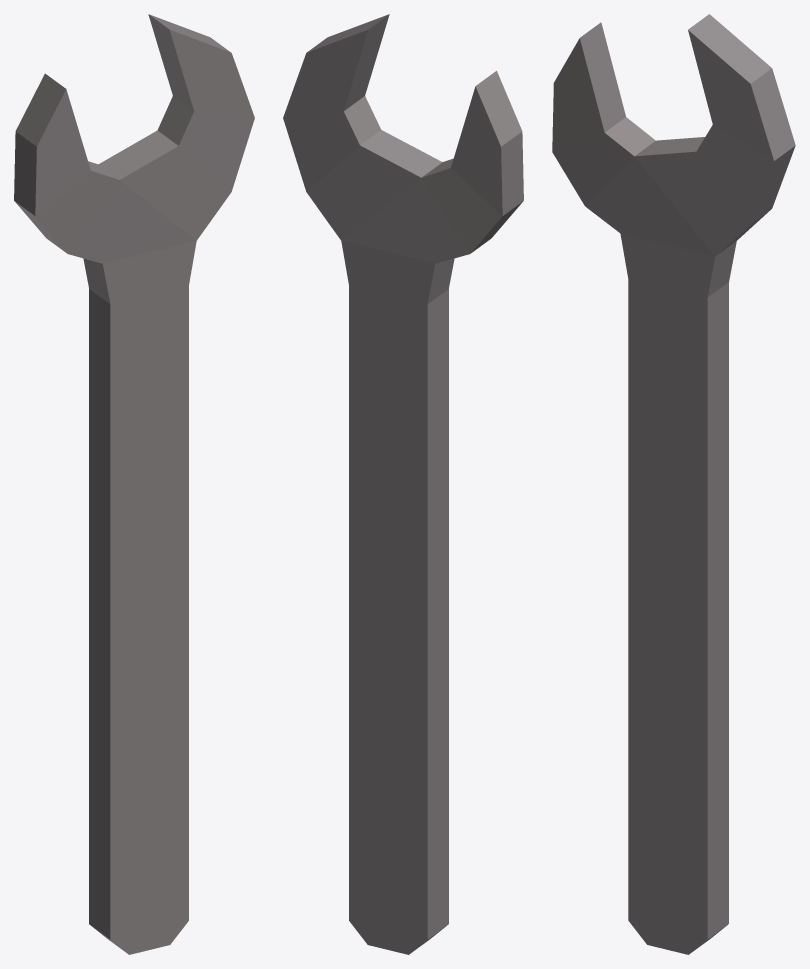
File: Wrench.fbx
3 views of the same model, side by side, from view 1: azimuth 30°, elevation 25°; view 2: azimuth 150°, elevation 25°; view 3: azimuth 330°, elevation 25° (orthographic).
Visible parts, largest first — view 1: Wrench; view 2: Wrench; view 3: Wrench.
Boxes of the visible parts, x1,y1,x2,y2 form: Wrench: [14, 14, 254, 954]; Wrench: [283, 14, 523, 954]; Wrench: [552, 14, 795, 954].
Bounding box in the file's own units: 11.33 × 45.12 × 2.07.
